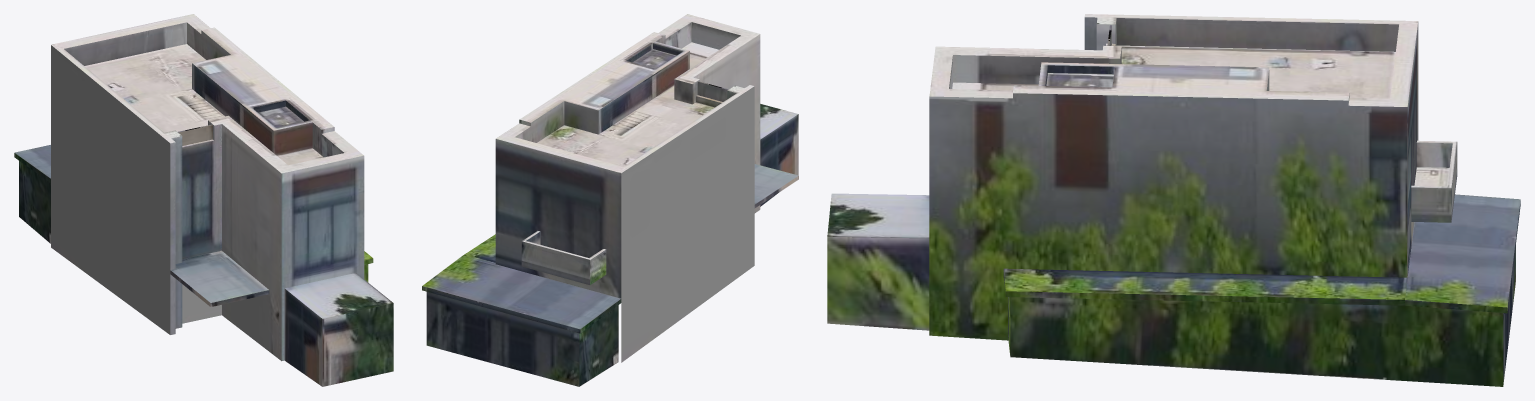
3 renders of one model, left to right at view 1: azimuth 30°, elevation 25°; view 2: azimuth 150°, elevation 25°; view 3: azimuth 270°, elevation 25°, orthographic. The views are drawn at different scales.
Visible parts, largest first — view 1: B285774033501062A0; view 2: B285774033501062A0; view 3: B285774033501062A0.
Boxes of the visible parts, <box> form: B285774033501062A0: <box>14,14,393,386</box>; B285774033501062A0: <box>422,14,798,386</box>; B285774033501062A0: <box>827,14,1520,386</box>.
Size of the model in its own units: 8.76 by 9 by 21.45.
1 material, 1 textured.
